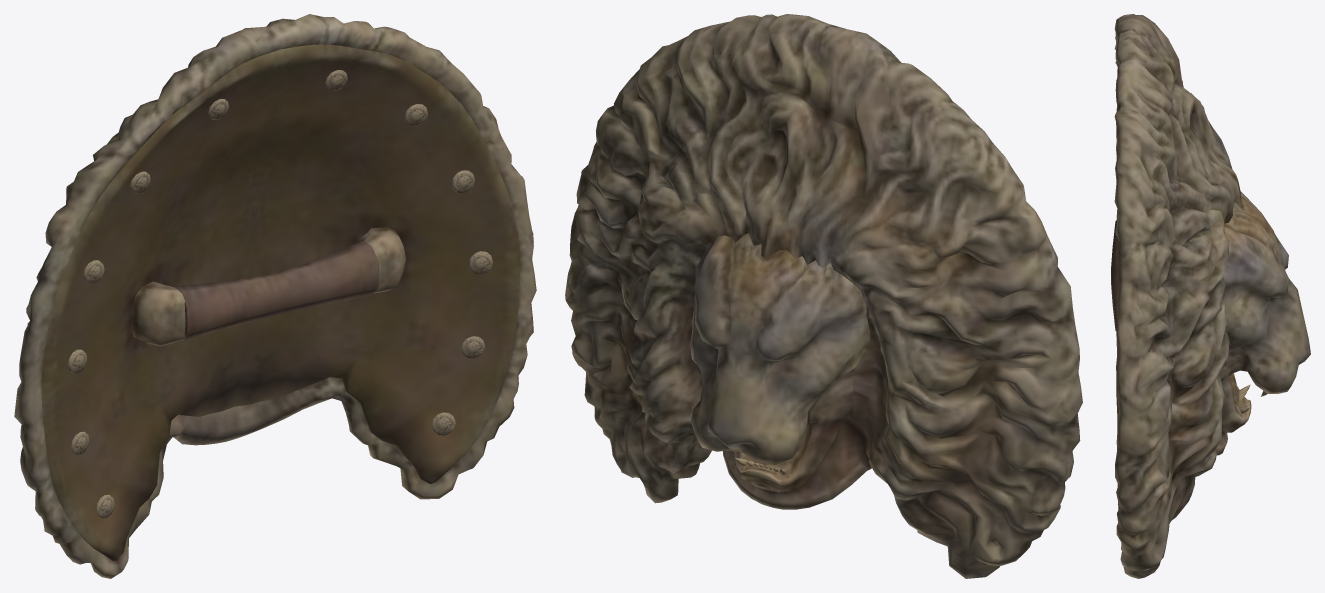
File: weapon-wp_a_2049.glb
The picture shows the model from 3 angles, left to right: view 1: azimuth 30°, elevation 25°; view 2: azimuth 150°, elevation 25°; view 3: azimuth 270°, elevation 25°; orthographic projection. The views are drawn at different scales.
Parts seen in each view (by area): view 1: wp_a_2049_mesh; view 2: wp_a_2049_mesh; view 3: wp_a_2049_mesh.
Part boxes in pixels (x1,y1,x2,y2): wp_a_2049_mesh: (14,14,536,578); wp_a_2049_mesh: (565,14,1082,578); wp_a_2049_mesh: (1111,14,1310,578).
Size of the model in its own units: 0.6279 by 0.5993 by 0.2296.
Materials: 1 (1 with a texture image).
